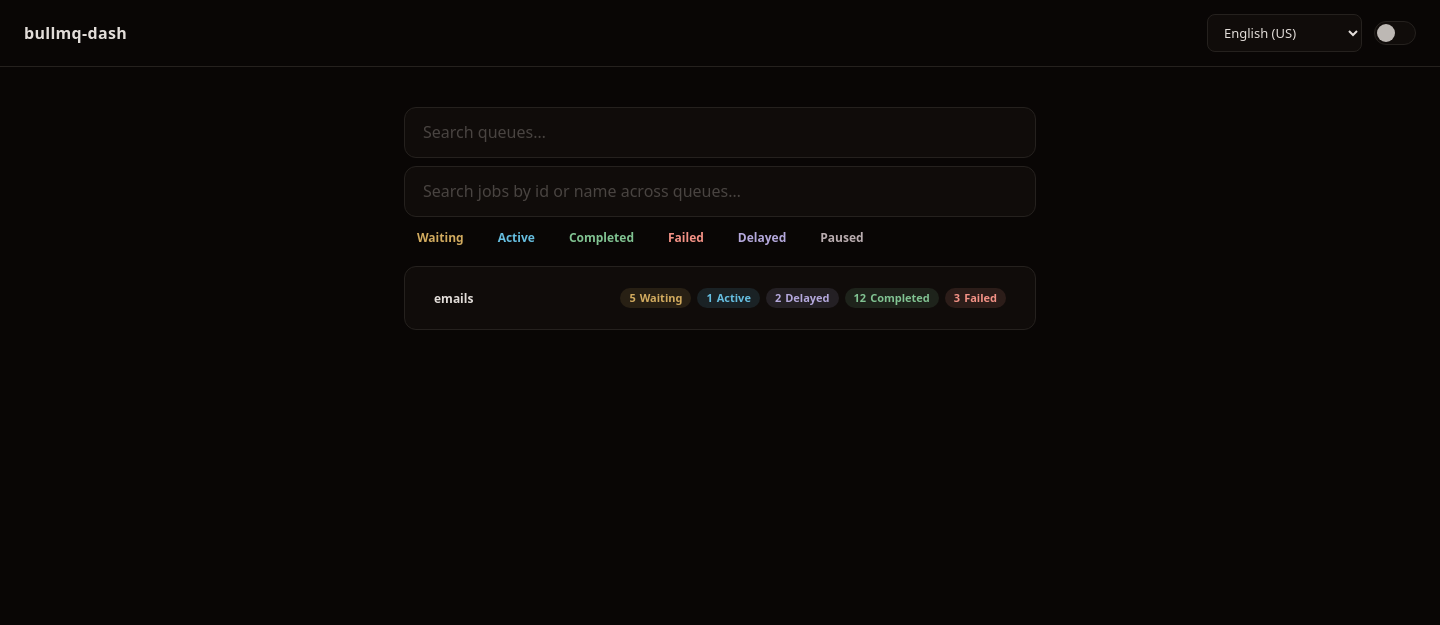
App shell › opens the metrics view of a queue
The image size is (1440, 625).
Click the button "emails 5 Waiting 1 Active 2 Delayed 12 Completed 3 Failed". click: (720, 298)
box: [421,279,1019,318]
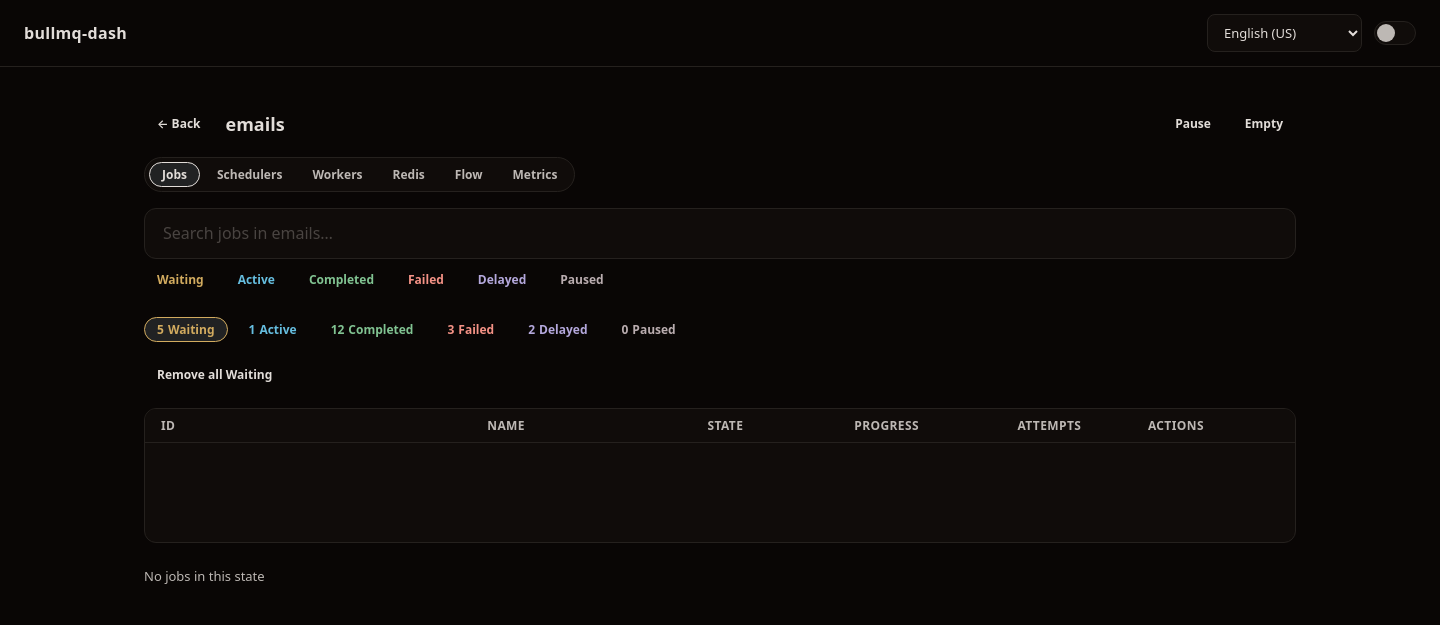
Click the button with aria-label "Open Metrics view". click: (535, 174)
box: [500,162,570,187]
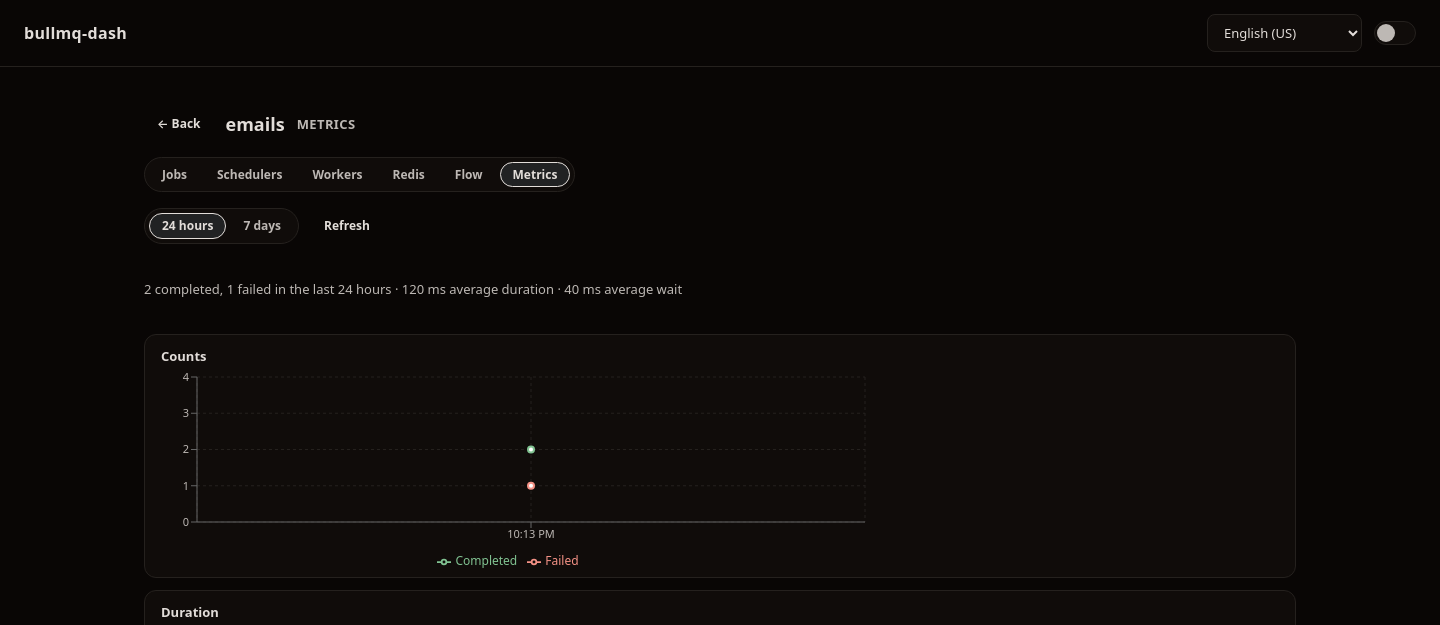
Expected: the text "2 completed, 1 failed in the last 24 hours" is shown, [144,280,392,298]
Expected: the heading "Counts" is shown, [161,347,206,365]
Click the button "← Back". click: (179, 124)
box: [144,107,214,141]
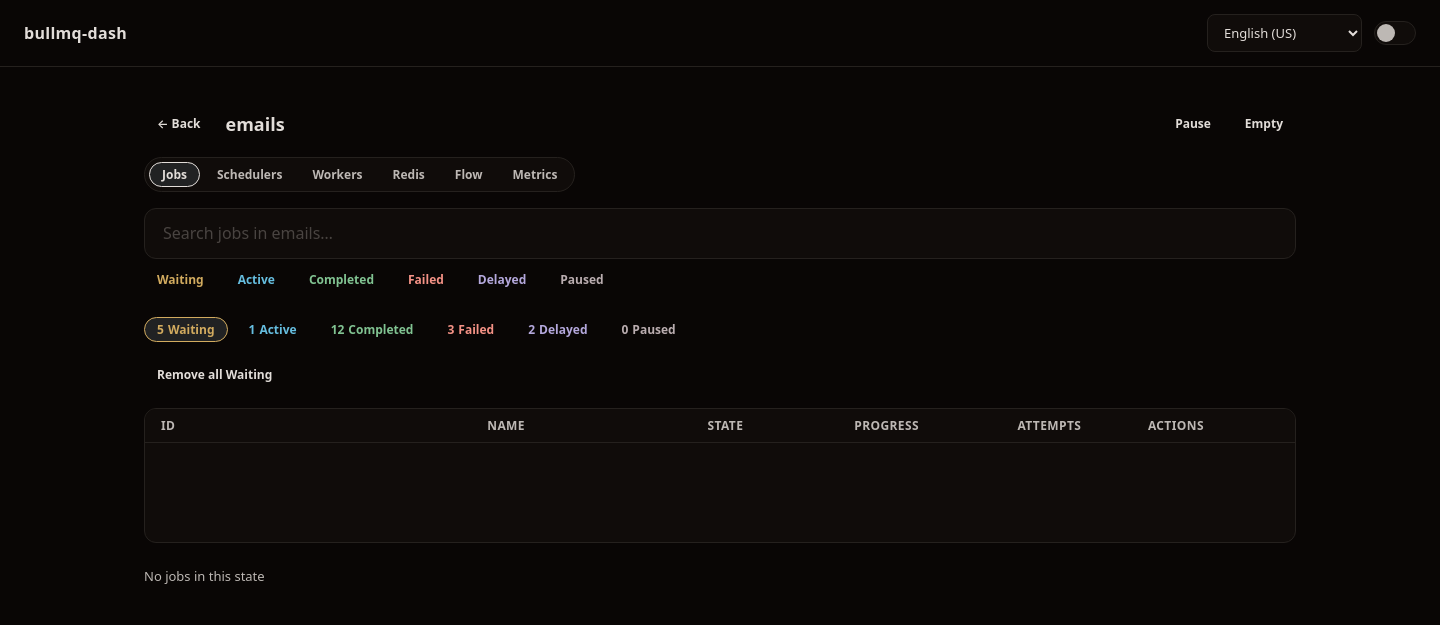
Expected: the element named "Job states" is shown, [144,317,689,342]
